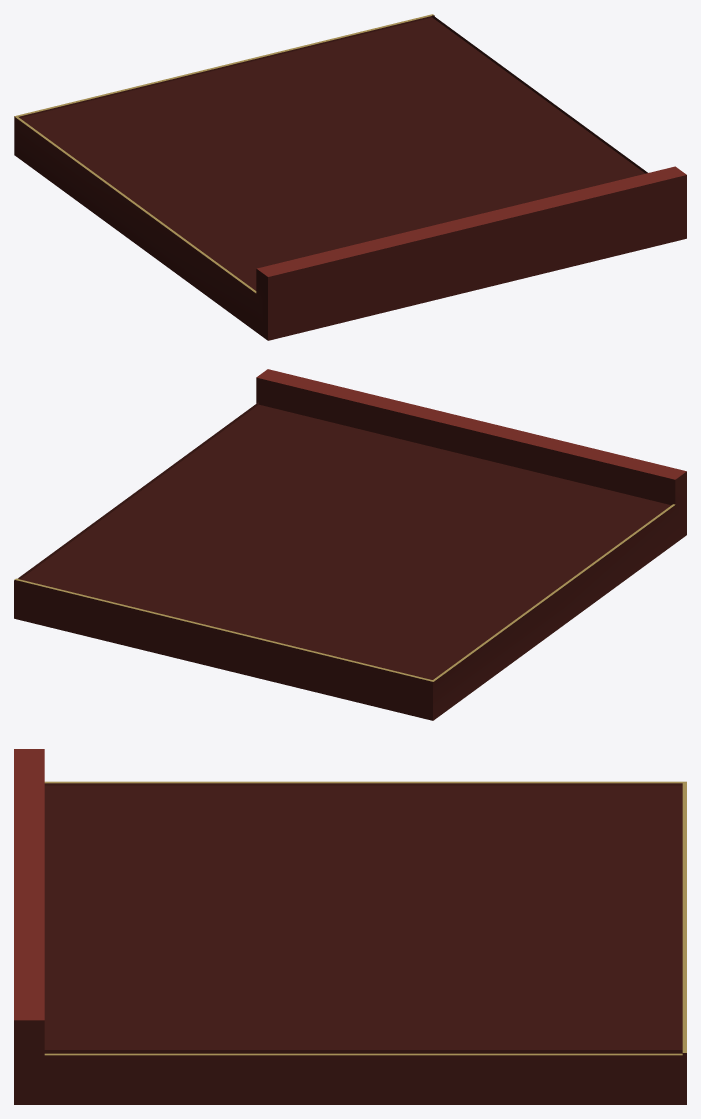
File: Cupcake Tray Sort - Board 2.fbx
3 views of the same model, one above another, from view 1: azimuth 30°, elevation 25°; view 2: azimuth 150°, elevation 25°; view 3: azimuth 270°, elevation 25° (orthographic). The views are drawn at different scales.
Visible parts, largest first — view 1: board 2; view 2: board 2; view 3: board 2.
Boxes of the visible parts, left/top/right/bottom form: board 2: left=14, top=14, right=686, bottom=340; board 2: left=14, top=369, right=686, bottom=720; board 2: left=14, top=749, right=686, bottom=1104.
Size of the model in its own units: 0.0987 by 0.1034 by 0.0143.
